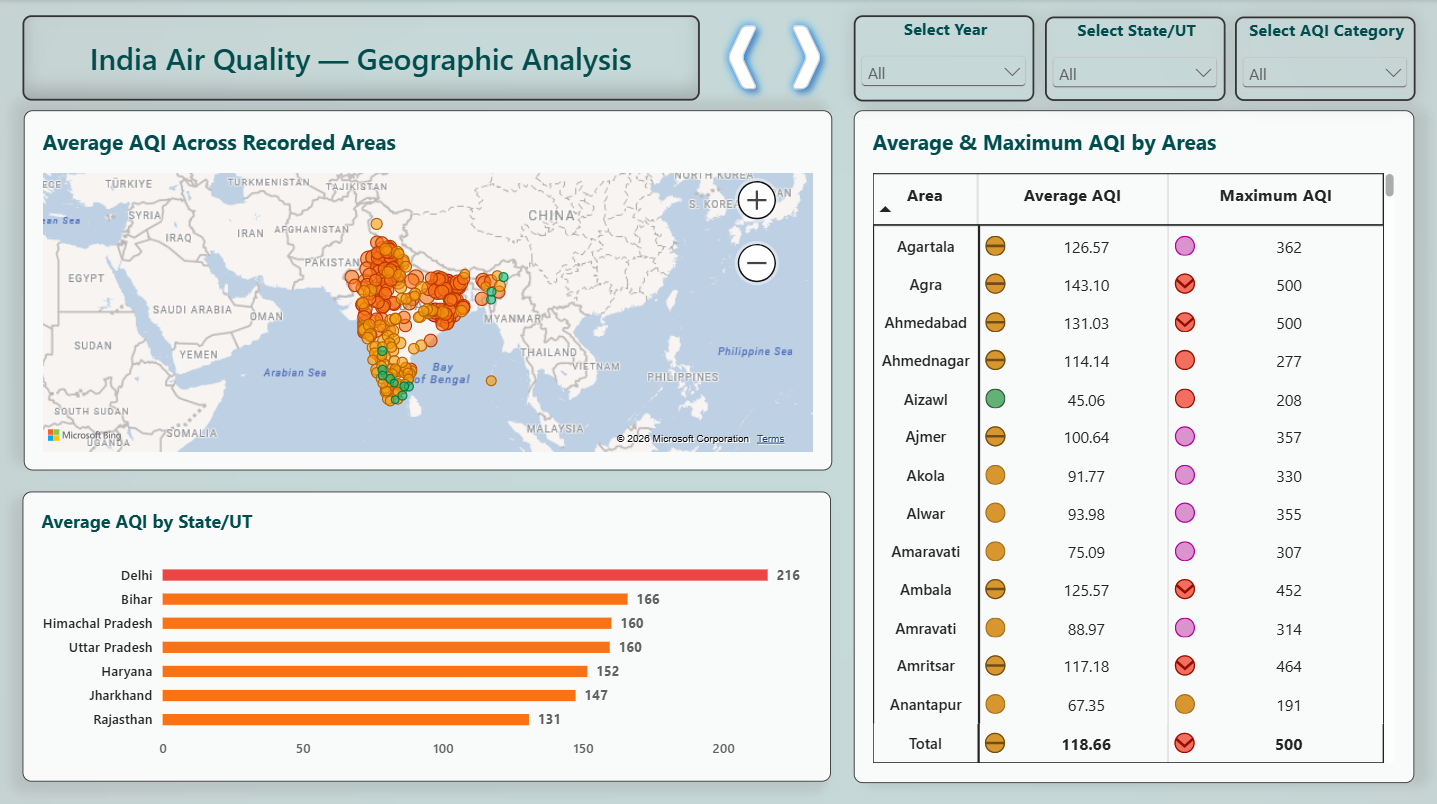

What the dashboard file says about the page in this screenshot:
{"tool":"powerbi","page":{"name":"Geographic Analysis","canvas":[1280,720],"ordinal":2},"visuals":[{"type":"map","title":"Average AQI Across Recorded Areas","fields":{"Size":["AQI_Data.Average AQI"],"Category":["AQI_Data.area","AQI_Data.state"]},"box":[20.9,98.8,719.8,320.9],"z":0},{"type":"pivotTable","title":"Average & Maximum AQI by Areas","fields":{"Values":["AQI_Data.Average AQI","AQI_Data.Maximum AQI"],"Rows":["AQI_Data.area"]},"box":[760.5,98.8,498.8,598.8],"z":1000},{"type":"clusteredBarChart","title":"Average AQI by State/UT","fields":{"Y":["AQI_Data.Average AQI"],"Category":["AQI_Data.State"]},"box":[20.5,439.1,719.8,258.3],"z":2000},{"type":"slicer","title":"Select Year","fields":{"Values":["AQI_Data.Year"]},"box":[760.5,14,160.5,76.7],"z":3000},{"type":"slicer","title":"Select State/UT","fields":{"Values":["AQI_Data.state"]},"box":[930.2,15.1,160.5,75.6],"z":4000},{"type":"slicer","title":"Select AQI Category","fields":{"Values":["AQI_Data.air_quality_status"]},"box":[1100,15.1,160.5,75.6],"z":5000},{"type":"textbox","box":[20.5,14.5,603.2,76],"z":6000},{"type":"actionButton","box":[696.1,14.5,44.6,74.8],"z":7000},{"type":"actionButton","box":[639.4,14.5,44.6,74.8],"z":8000}]}

Visuals, with their boxes in screenshot pixels (x1, y1, x2, y2), scaled from the page's 1280x720 canvas onto the 1437x804 screenshot:
"Average AQI Across Recorded Areas" map: region(23, 110, 832, 469)
"Average & Maximum AQI by Areas" pivotTable: region(854, 110, 1414, 779)
"Average AQI by State/UT" clusteredBarChart: region(23, 490, 831, 779)
"Select Year" slicer: region(854, 16, 1034, 101)
"Select State/UT" slicer: region(1044, 17, 1224, 101)
"Select AQI Category" slicer: region(1235, 17, 1415, 101)
textbox: region(23, 16, 700, 101)
actionButton: region(781, 16, 832, 100)
actionButton: region(718, 16, 768, 100)
